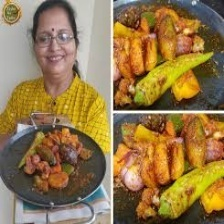sabzi: (17, 129, 88, 194)
